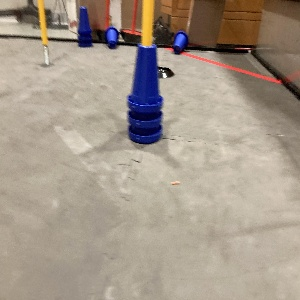Blue_1: (172, 30, 189, 53), (105, 23, 119, 49)
Blue_3: (127, 43, 161, 144), (77, 4, 93, 46)
